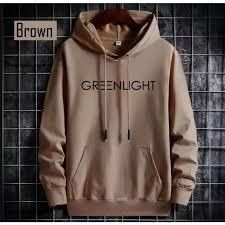sweater: (40, 9, 198, 215)
